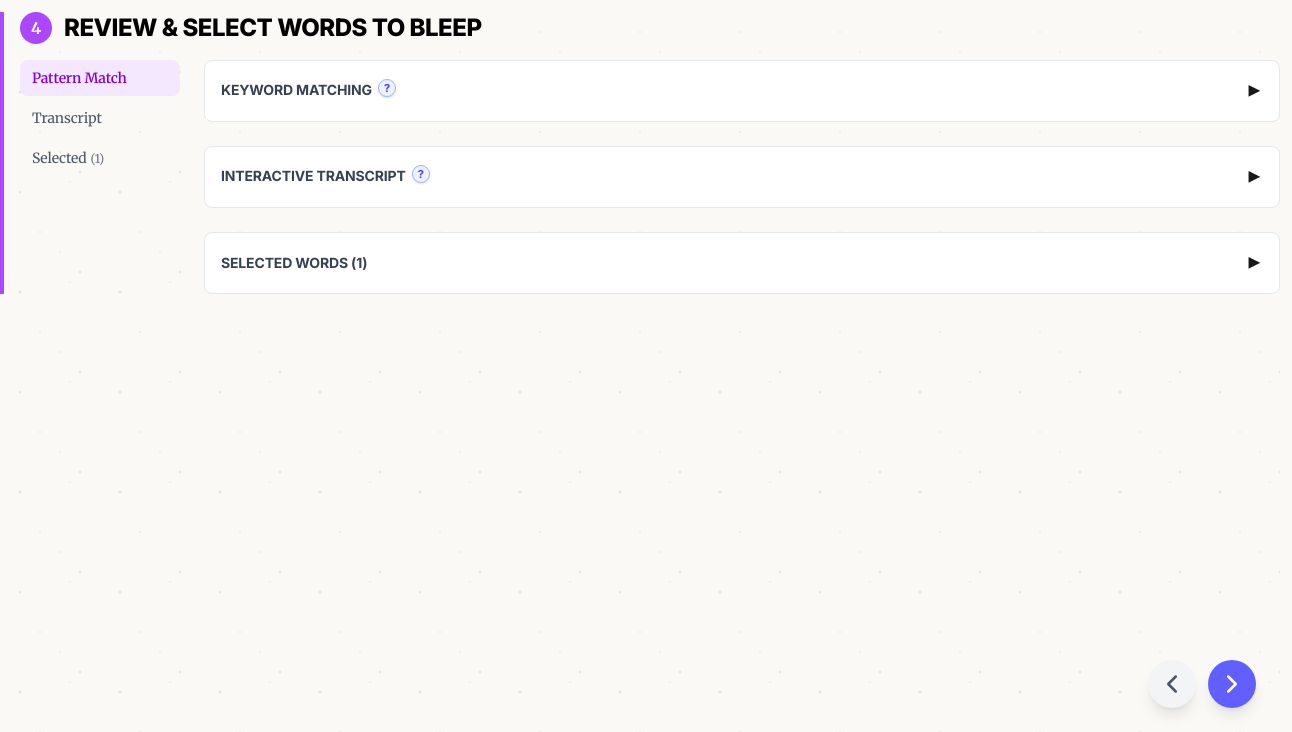
it: ReviewMatchTab › Success message › shows correct count in success message
Click the button "Selected Words (1) ▼" at (289, 263), box [205,233,1279,293]
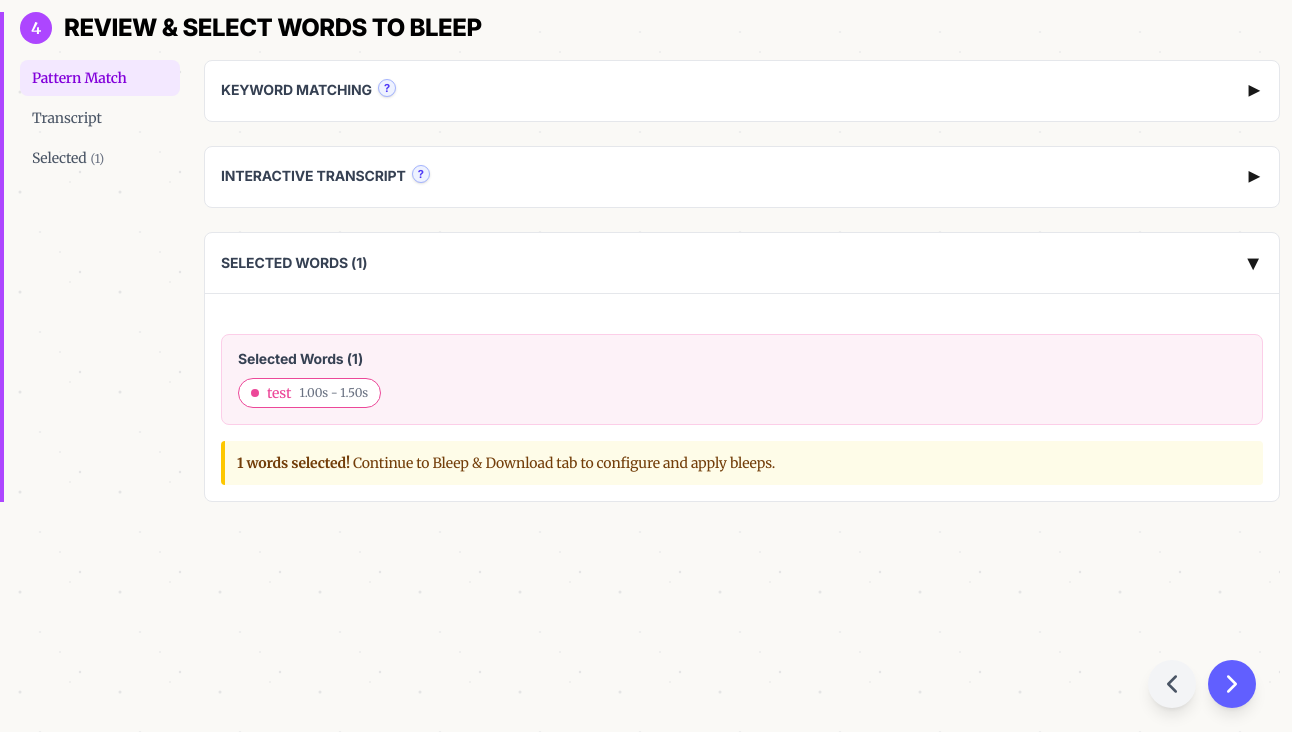
Expected: the text "1 words selected!" is shown, [237,454,350,472]
